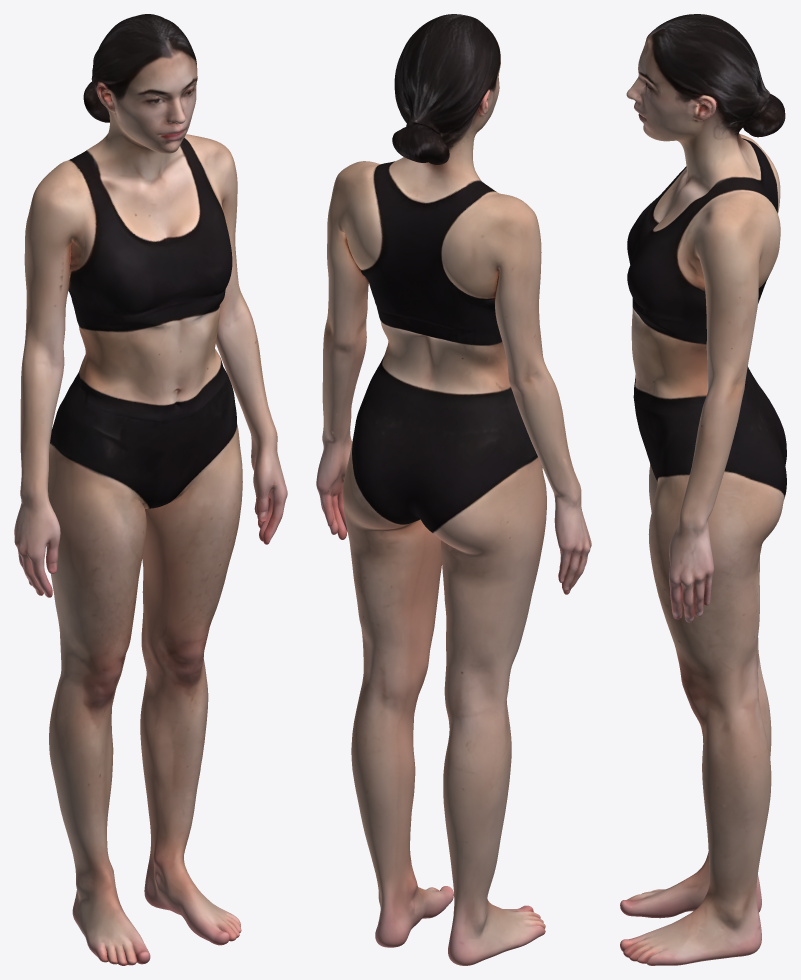
The model's file is female.glb.
3 views of the same model, side by side, from view 1: azimuth 30°, elevation 25°; view 2: azimuth 150°, elevation 25°; view 3: azimuth 270°, elevation 25° (orthographic).
Parts seen in each view (by area): view 1: model; view 2: model; view 3: model.
Boxes of the visible parts, <box> form: model: <box>14,14,287,965</box>; model: <box>316,14,591,965</box>; model: <box>620,14,786,965</box>.
Size of the model in its own units: 0.514 by 1.68 by 0.2771.
Materials: 1 (1 with a texture image).
